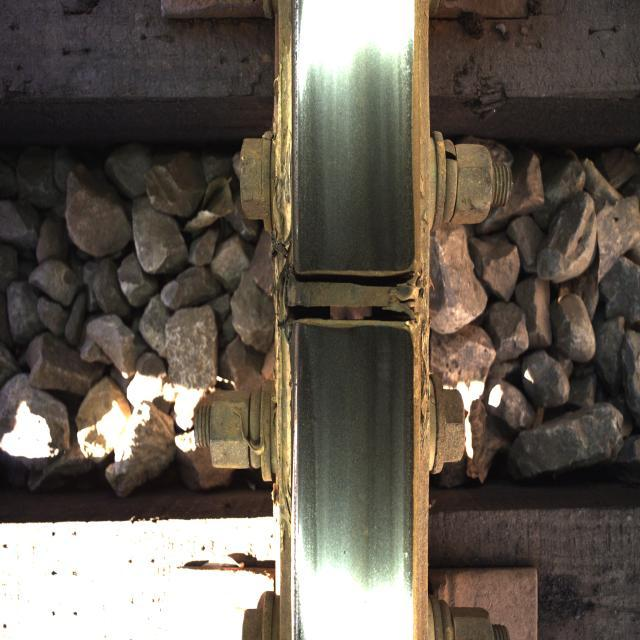spalling: (239, 222, 459, 368)
